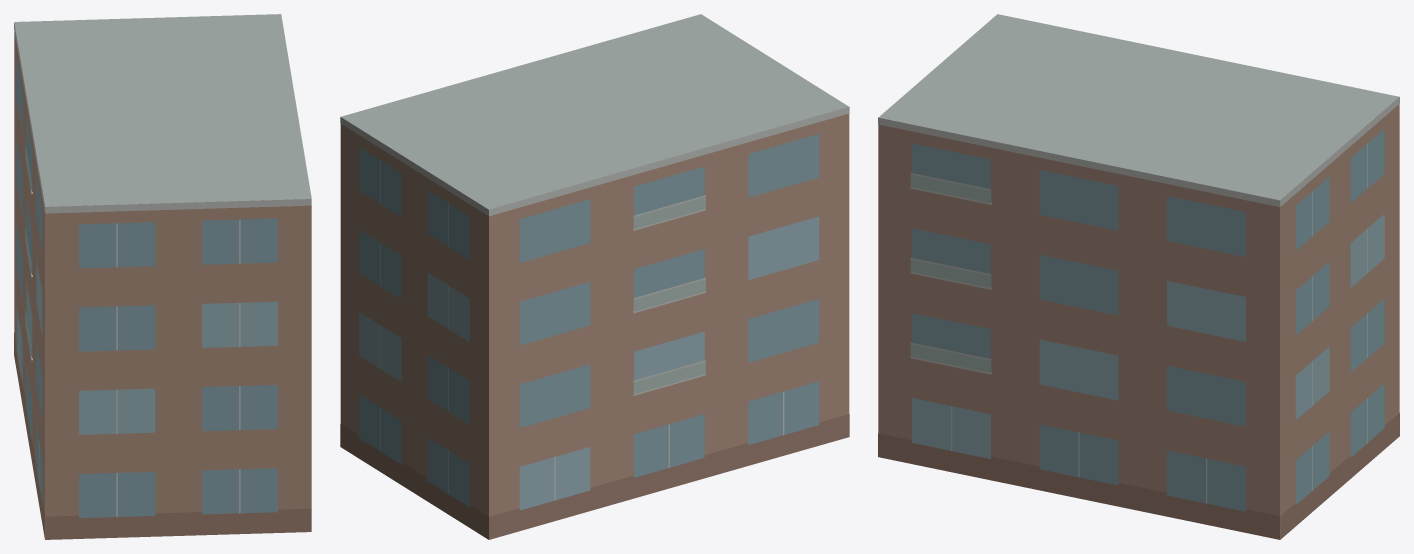
The model's file is residential-6133d99a-4902-4e5b-8e5a-f0f680e22ca4.glb.
3 views of the same model, side by side, from view 1: azimuth 30°, elevation 25°; view 2: azimuth 150°, elevation 25°; view 3: azimuth 270°, elevation 25° (orthographic). The views are drawn at different scales.
Visible parts, largest first — view 1: residential-6133d99a-4902-4e5b-8e5a-f0f680e22ca4.tmp; view 2: residential-6133d99a-4902-4e5b-8e5a-f0f680e22ca4.tmp; view 3: residential-6133d99a-4902-4e5b-8e5a-f0f680e22ca4.tmp.
Part boxes in pixels (bbox=[...]): residential-6133d99a-4902-4e5b-8e5a-f0f680e22ca4.tmp: bbox=[14, 14, 311, 539]; residential-6133d99a-4902-4e5b-8e5a-f0f680e22ca4.tmp: bbox=[340, 14, 849, 539]; residential-6133d99a-4902-4e5b-8e5a-f0f680e22ca4.tmp: bbox=[878, 14, 1399, 539].
Bounding box in the file's own units: 14.38 × 12.2 × 17.
